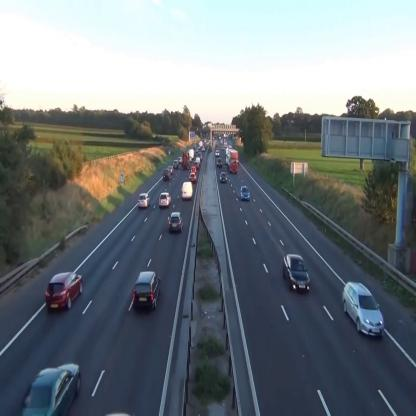car: (22, 363, 81, 416), (342, 280, 385, 338), (46, 271, 82, 311), (283, 252, 310, 296), (133, 271, 161, 310), (168, 213, 183, 232), (159, 192, 171, 208), (138, 192, 150, 208), (240, 187, 249, 201), (163, 169, 171, 181), (220, 172, 227, 183), (167, 166, 174, 174), (189, 173, 195, 182), (217, 158, 222, 167), (191, 166, 196, 174), (173, 161, 178, 168), (194, 161, 198, 169), (178, 157, 182, 163)
lorry: (228, 148, 237, 174), (182, 182, 193, 199), (182, 152, 189, 169)
